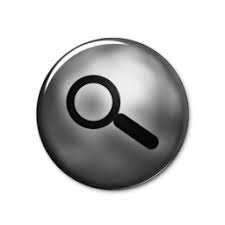searchIcon: (65, 71, 160, 152)
